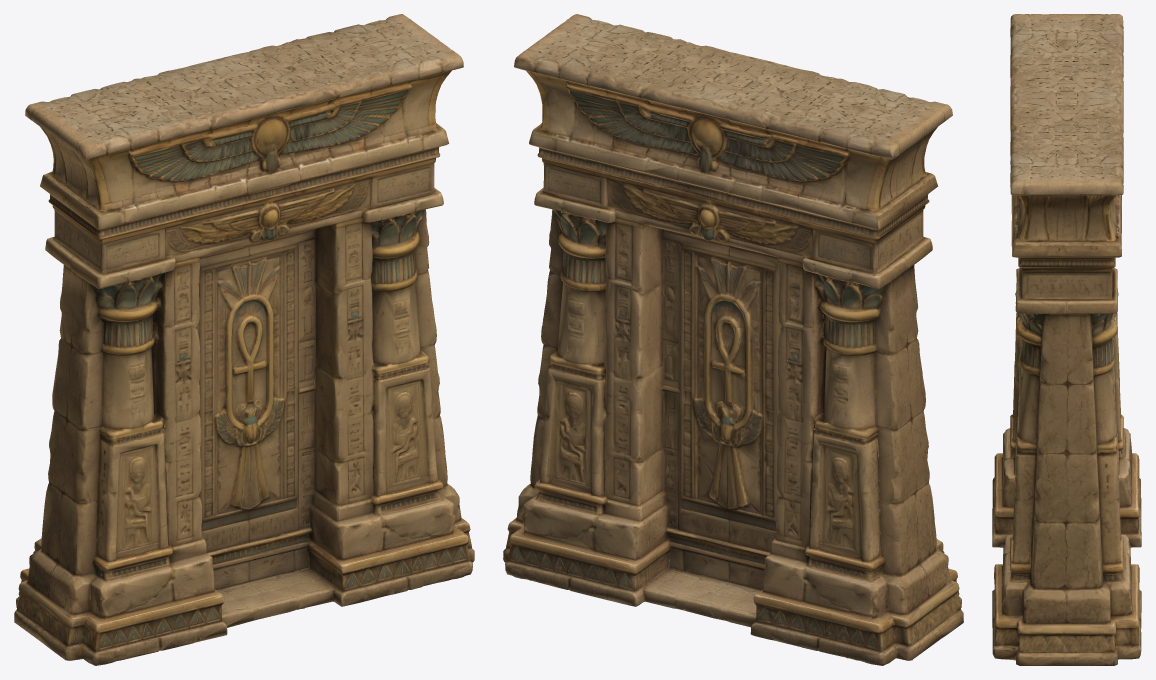
The model's file is WF_EgyptianTombV2_TempleDoorway.fbx.
The picture shows the model from 3 angles, left to right: view 1: azimuth 30°, elevation 25°; view 2: azimuth 150°, elevation 25°; view 3: azimuth 270°, elevation 25°; orthographic projection. The views are drawn at different scales.
Visible parts, largest first — view 1: Mesh1.0; view 2: Mesh1.0; view 3: Mesh1.0.
Boxes of the visible parts, bbox=[...] form: Mesh1.0: bbox=[14, 14, 474, 665]; Mesh1.0: bbox=[503, 14, 963, 665]; Mesh1.0: bbox=[992, 14, 1141, 665].
Size of the model in its own units: 160 by 191 by 54.51.
1 material, 1 textured.
